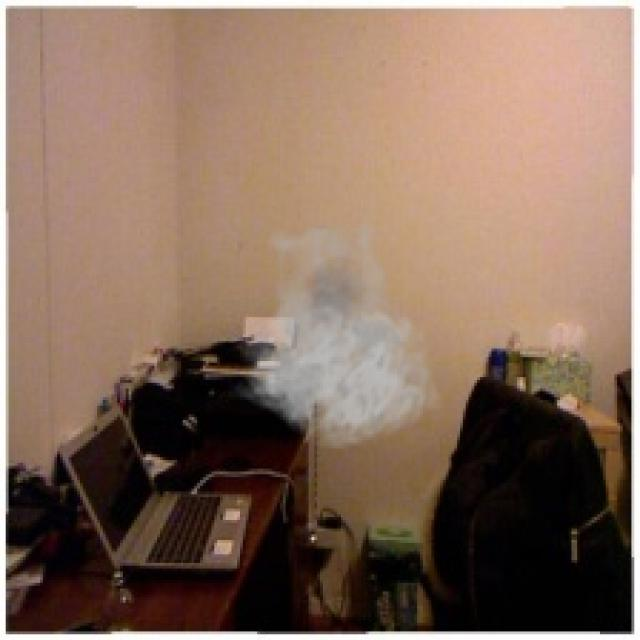smoke: (228, 206, 443, 451)
